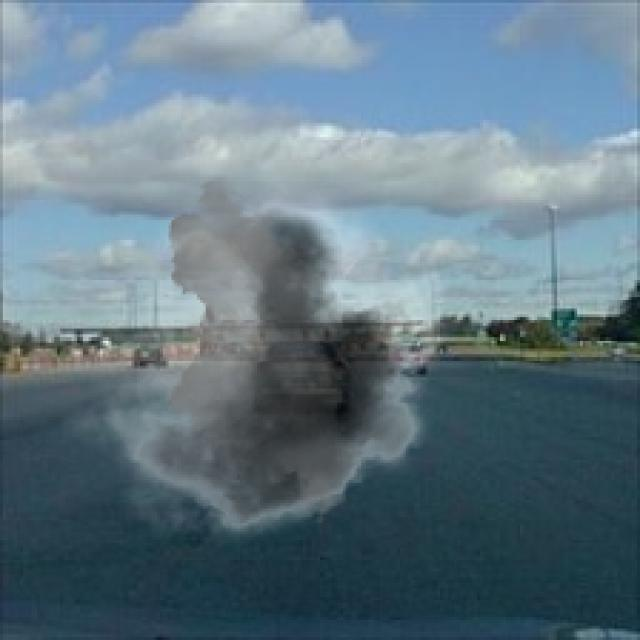smoke: (60, 174, 466, 557)
